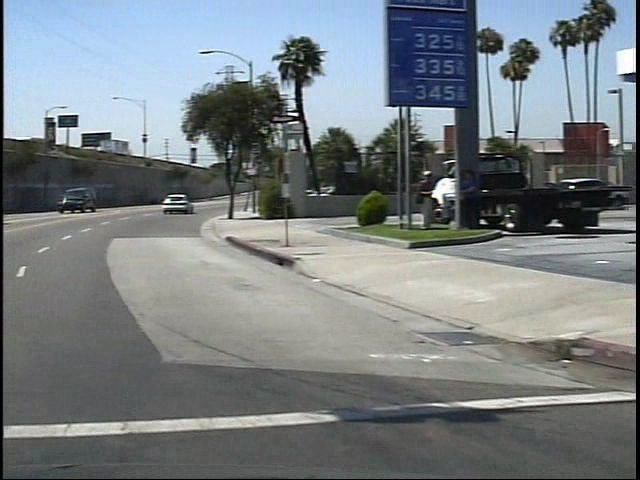person: (403, 164, 430, 232)
